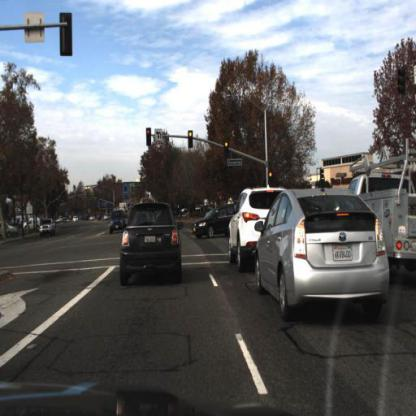car: (255, 186, 392, 320), (349, 148, 416, 265), (224, 185, 287, 277), (117, 200, 182, 288), (119, 198, 185, 280), (228, 188, 275, 271), (191, 202, 238, 238), (109, 210, 127, 236), (39, 216, 57, 241), (111, 209, 125, 236), (40, 219, 58, 237)
trafficLight: (268, 166, 274, 184)
trafficLight-Red: (187, 127, 196, 154), (223, 140, 232, 163), (187, 128, 194, 153), (224, 138, 231, 163), (267, 168, 275, 185)
trafficLight-RedLeft: (145, 126, 154, 151), (146, 127, 154, 152)
